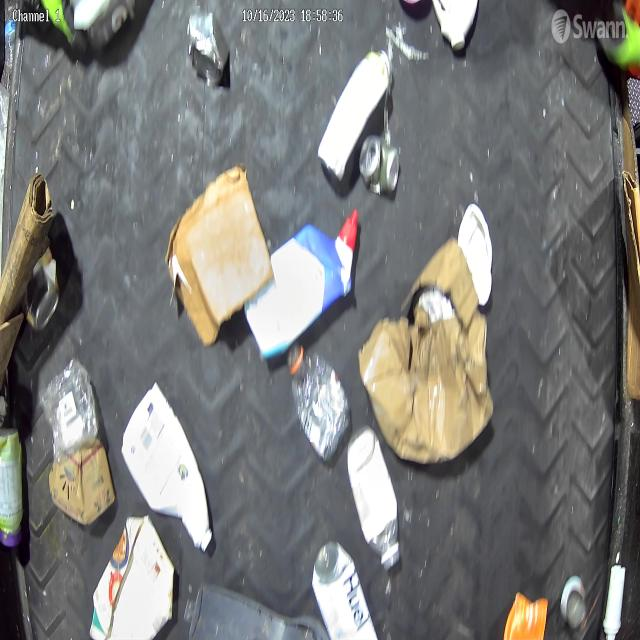can: (317, 50, 389, 182), (312, 541, 378, 640), (187, 11, 230, 85), (25, 250, 60, 330), (359, 136, 400, 194), (560, 576, 586, 628)
milk_jug: (121, 380, 212, 555), (431, 0, 478, 53)
non_white_jug: (244, 208, 359, 360)
plastic_bottle: (289, 341, 349, 462), (5, 4, 16, 75)
